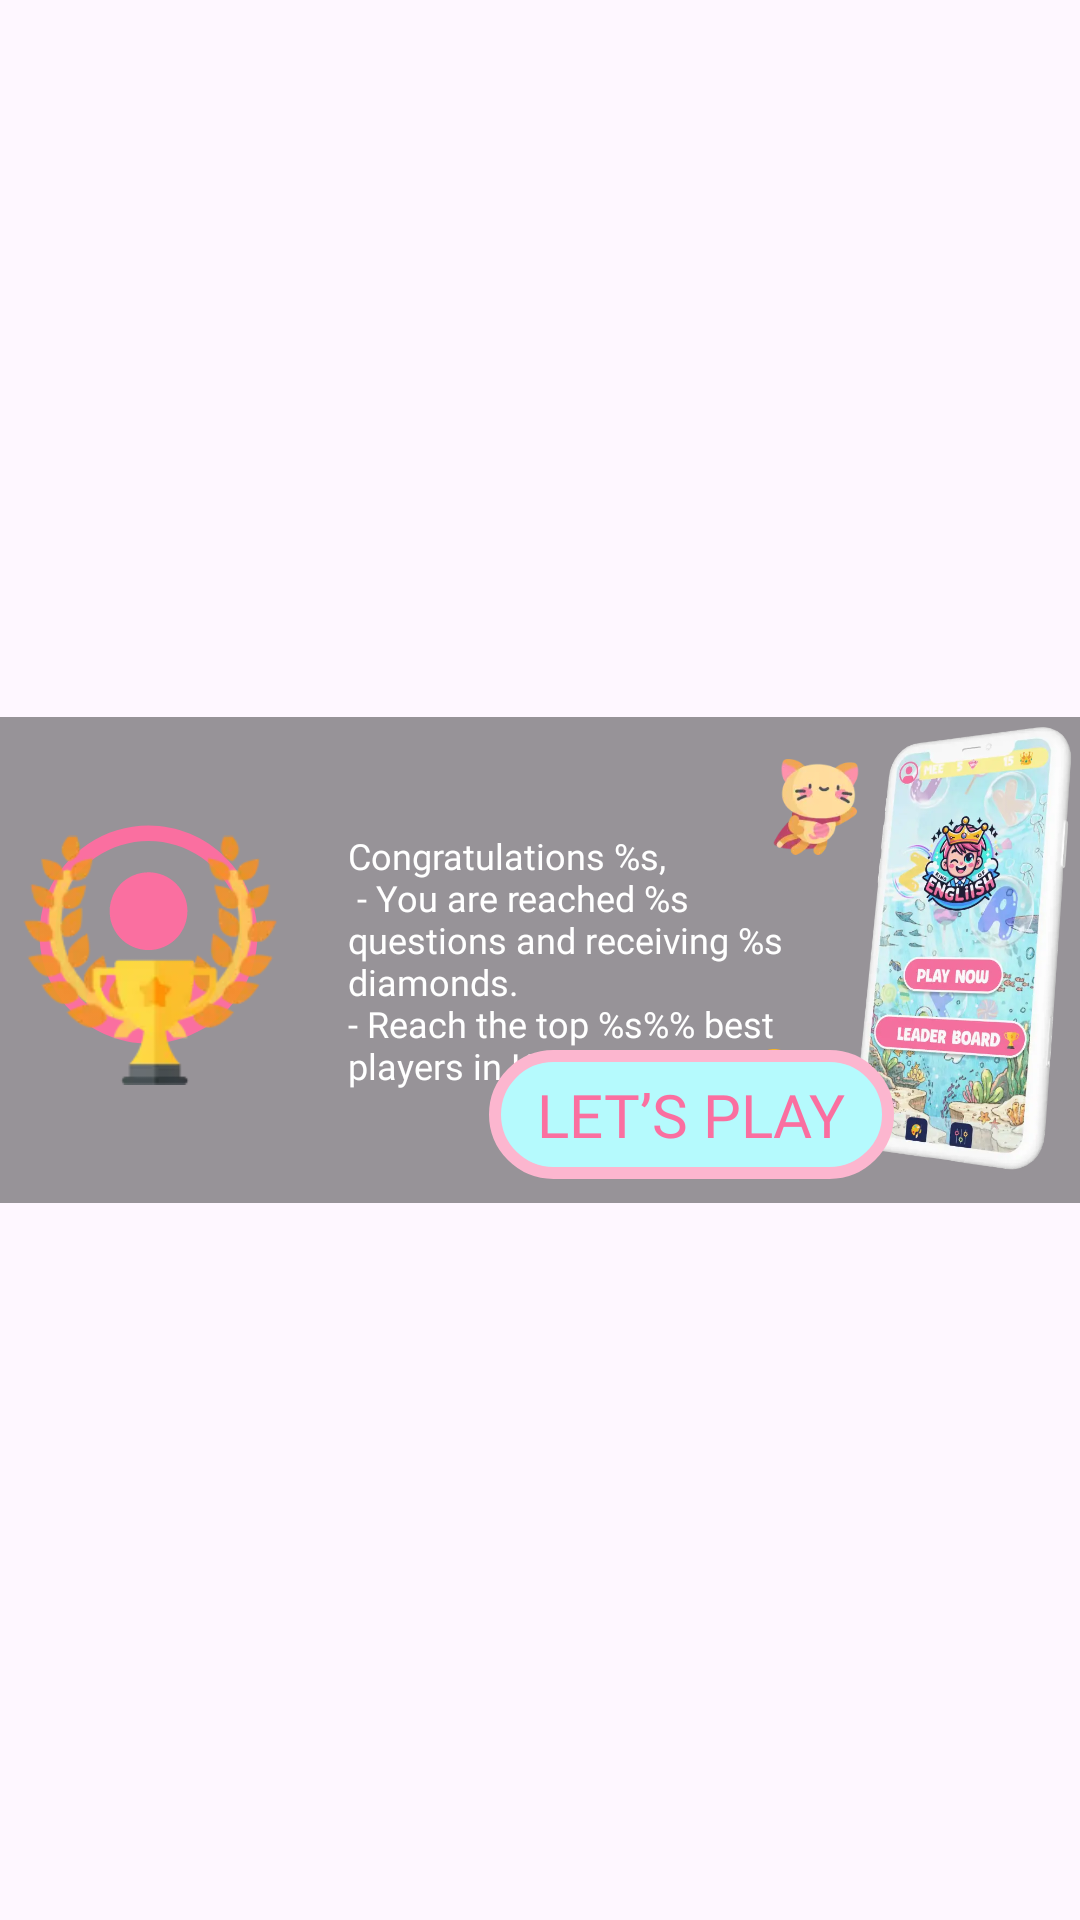

Icons on this 1080*1920 Android screen, each with its box as (x1,y1,x2,y2):
cat: (774,759,858,855)
